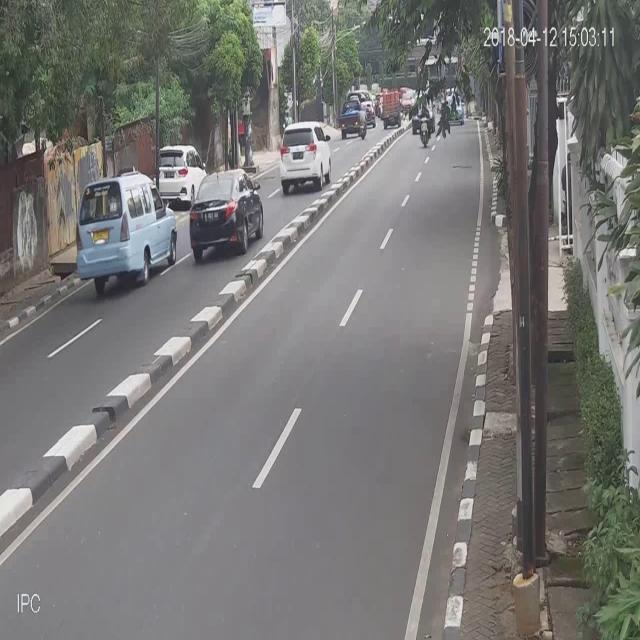motorcycle: (73, 167, 178, 293), (188, 167, 264, 261), (276, 121, 332, 196), (153, 140, 191, 207)
